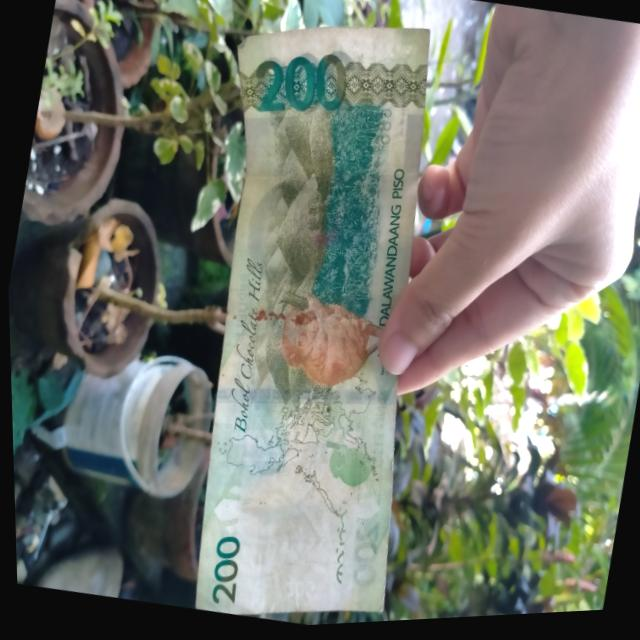see_through_mark: (318, 477, 368, 600)
value: (243, 39, 361, 136)
watermark: (225, 485, 346, 600)
